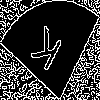K: (25, 25, 64, 82)
